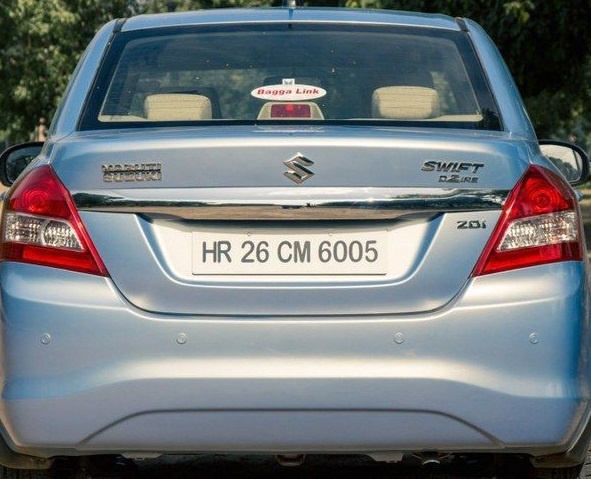plate: (178, 218, 399, 297)
